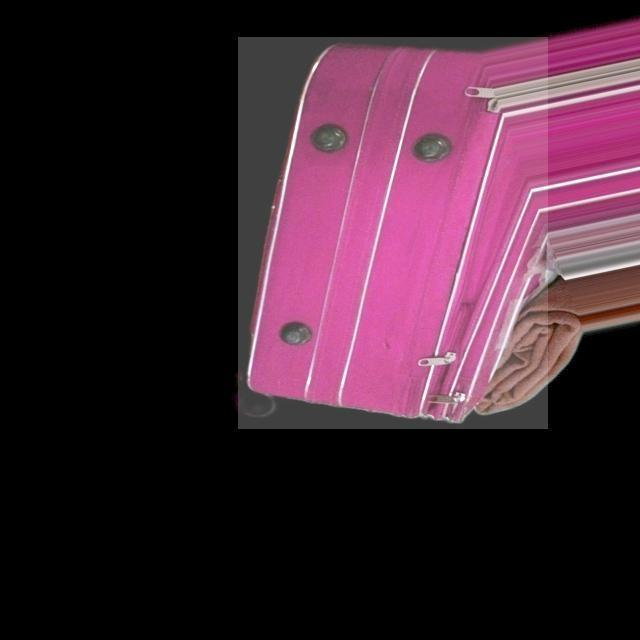Suitcase: (247, 19, 640, 443)
